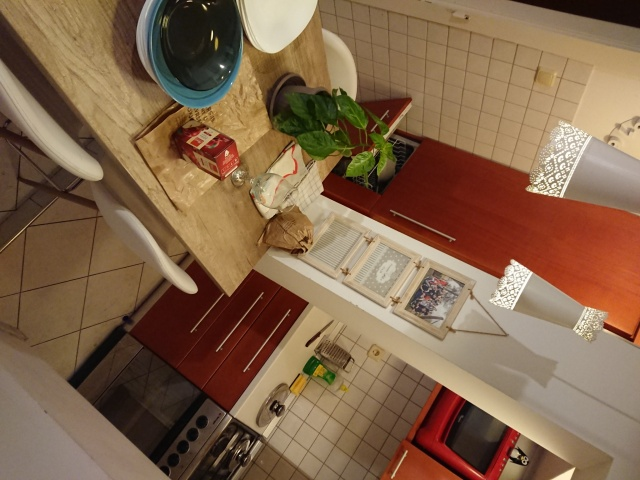Franck Apple Cinnamon Tea 60g: (169, 116, 244, 183)
